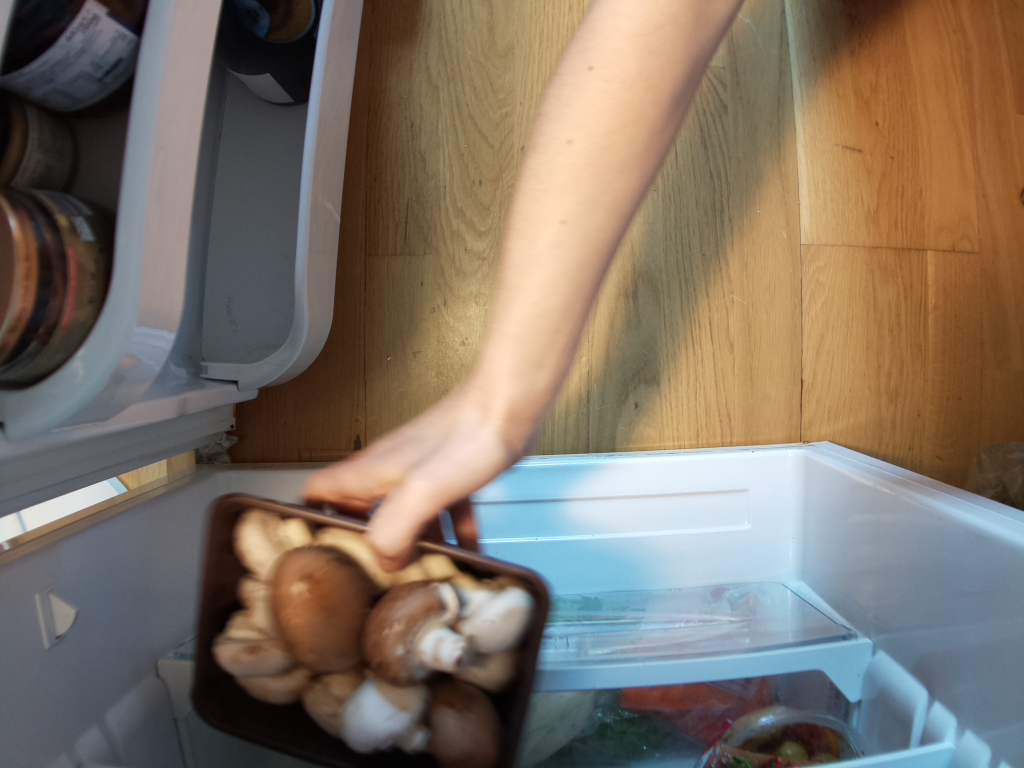mushrooms: (201, 488, 552, 768)
